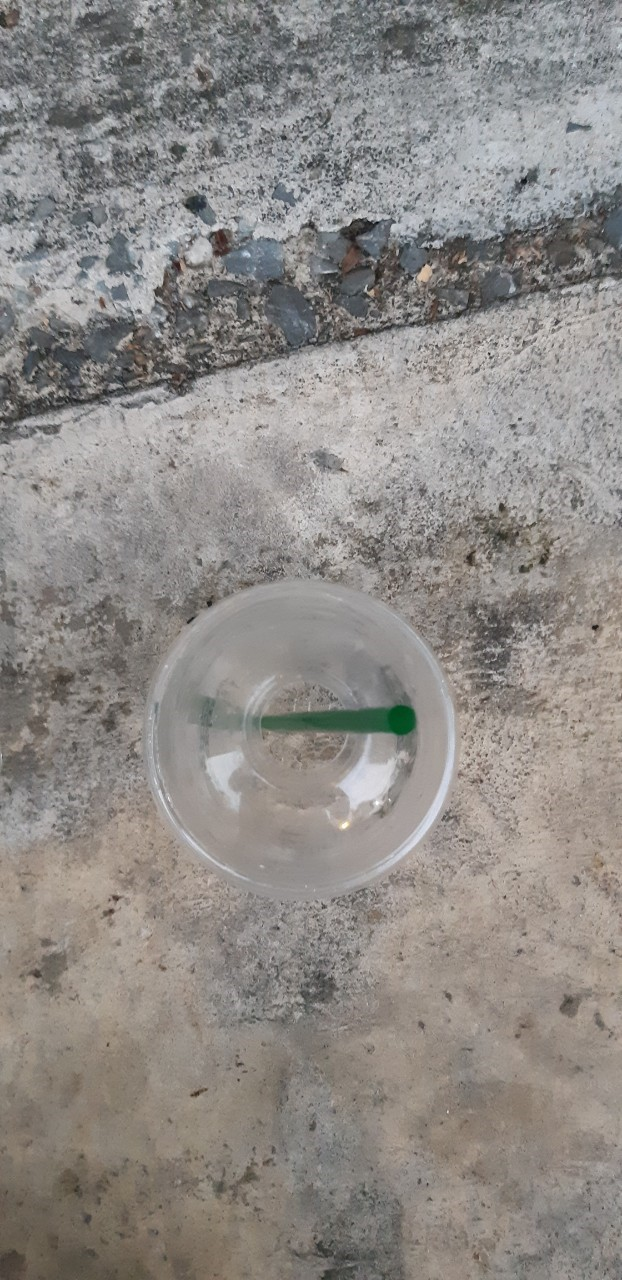PlasticCup: (141, 578, 445, 892)
